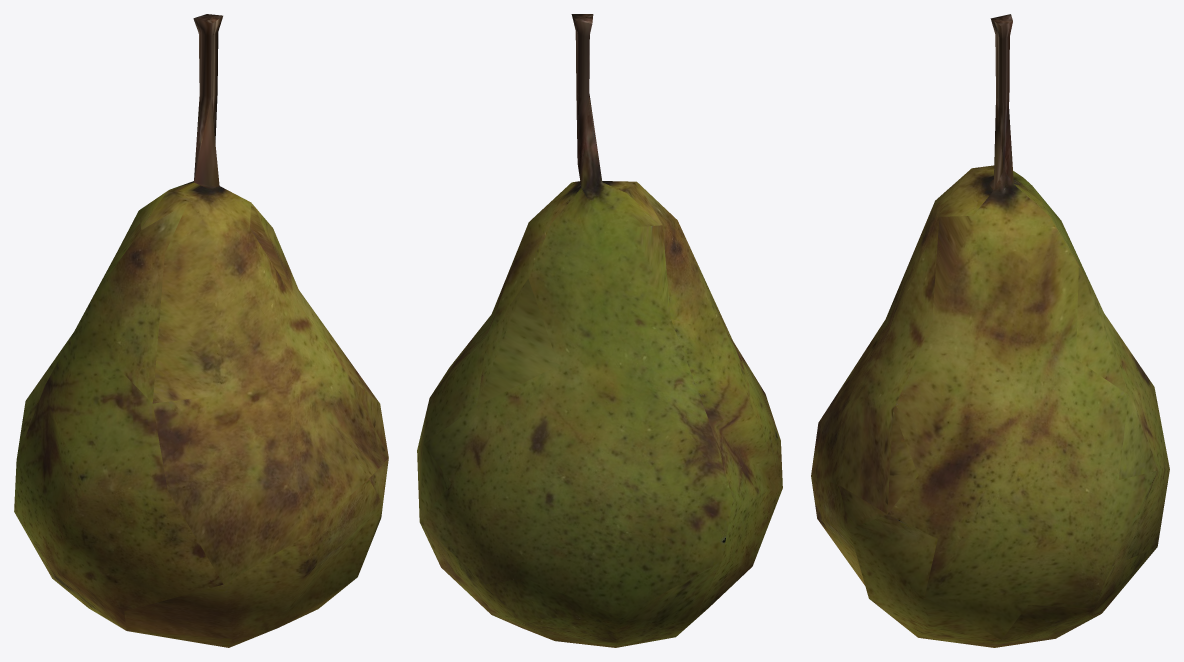
3 views of the same model, side by side, from view 1: azimuth 30°, elevation 25°; view 2: azimuth 150°, elevation 25°; view 3: azimuth 270°, elevation 25° (orthographic).
Parts seen in each view (by area): view 1: pear04_lr; view 2: pear04_lr; view 3: pear04_lr.
Boxes of the visible parts, x1,y1,x2,y2 form: pear04_lr: [14, 14, 388, 647]; pear04_lr: [417, 14, 782, 647]; pear04_lr: [811, 14, 1169, 647].
Size of the model in its own units: 77.95 by 144 by 76.09.
